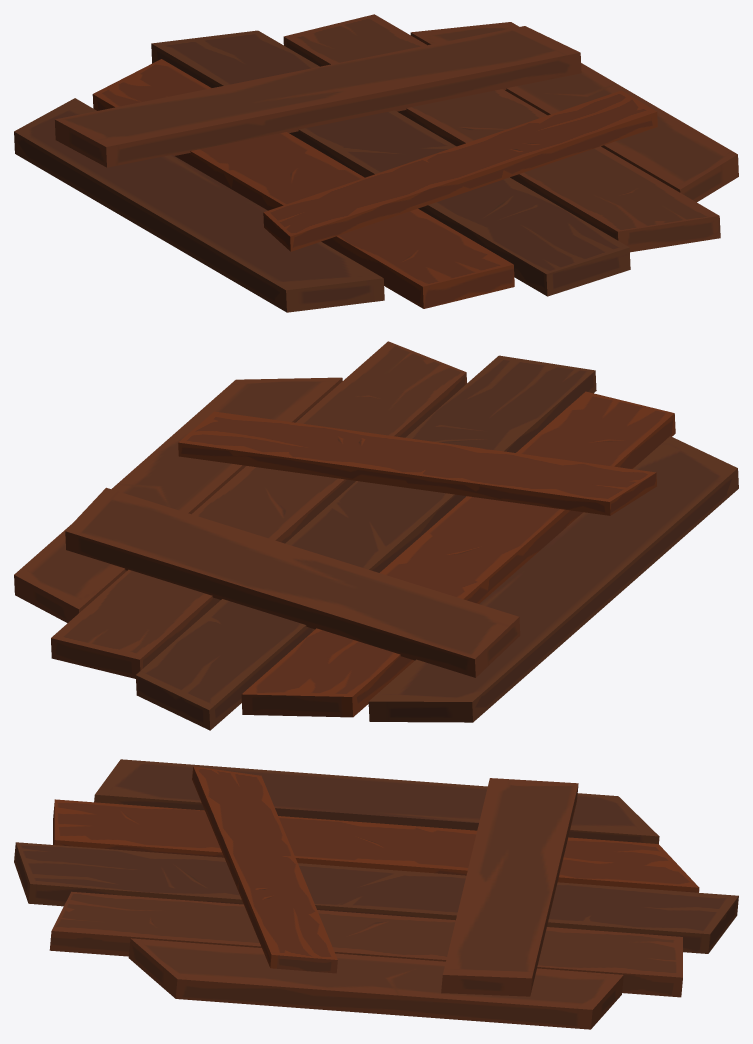
Rendered from WoodenShield.fbx.
3 renders of one model, top to bottom at view 1: azimuth 30°, elevation 25°; view 2: azimuth 150°, elevation 25°; view 3: azimuth 270°, elevation 25°, orthographic. The views are drawn at different scales.
Visible parts, largest first — view 1: WoodenShield; view 2: WoodenShield; view 3: WoodenShield.
Boxes of the visible parts, x1,y1,x2,y2 form: WoodenShield: [14, 14, 738, 312]; WoodenShield: [14, 341, 738, 730]; WoodenShield: [14, 759, 738, 1029].
Bounding box in the file's own units: 86.59 × 14.66 × 123.
Materials: 1 (1 with a texture image).
